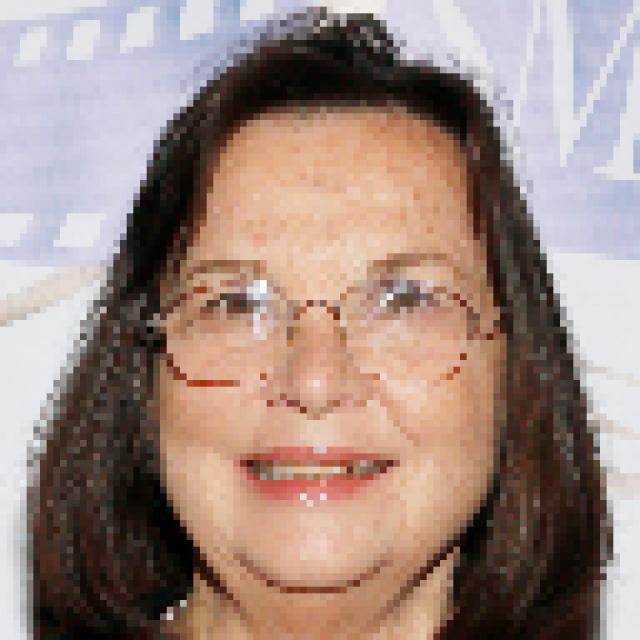Happy: (130, 99, 503, 612)
